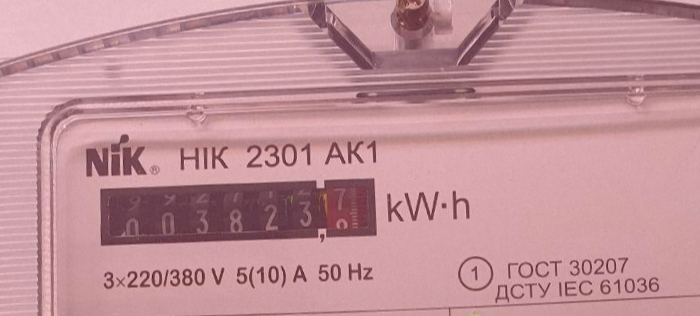0: (156, 206, 177, 234), (122, 212, 141, 236)
2: (260, 199, 281, 232)
3: (295, 196, 315, 227), (191, 203, 211, 233)
7: (332, 184, 349, 213)
8: (225, 204, 244, 233)
9: (123, 191, 142, 211)
screen: (90, 168, 381, 254)
